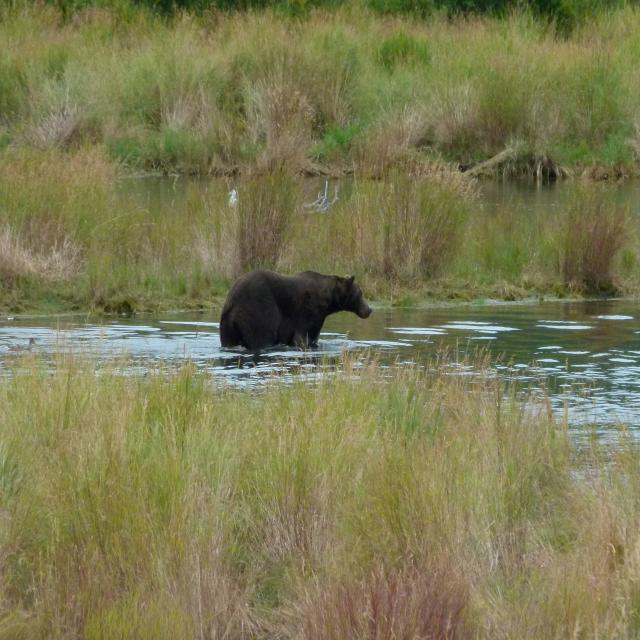bear face: (221, 272, 374, 351)
